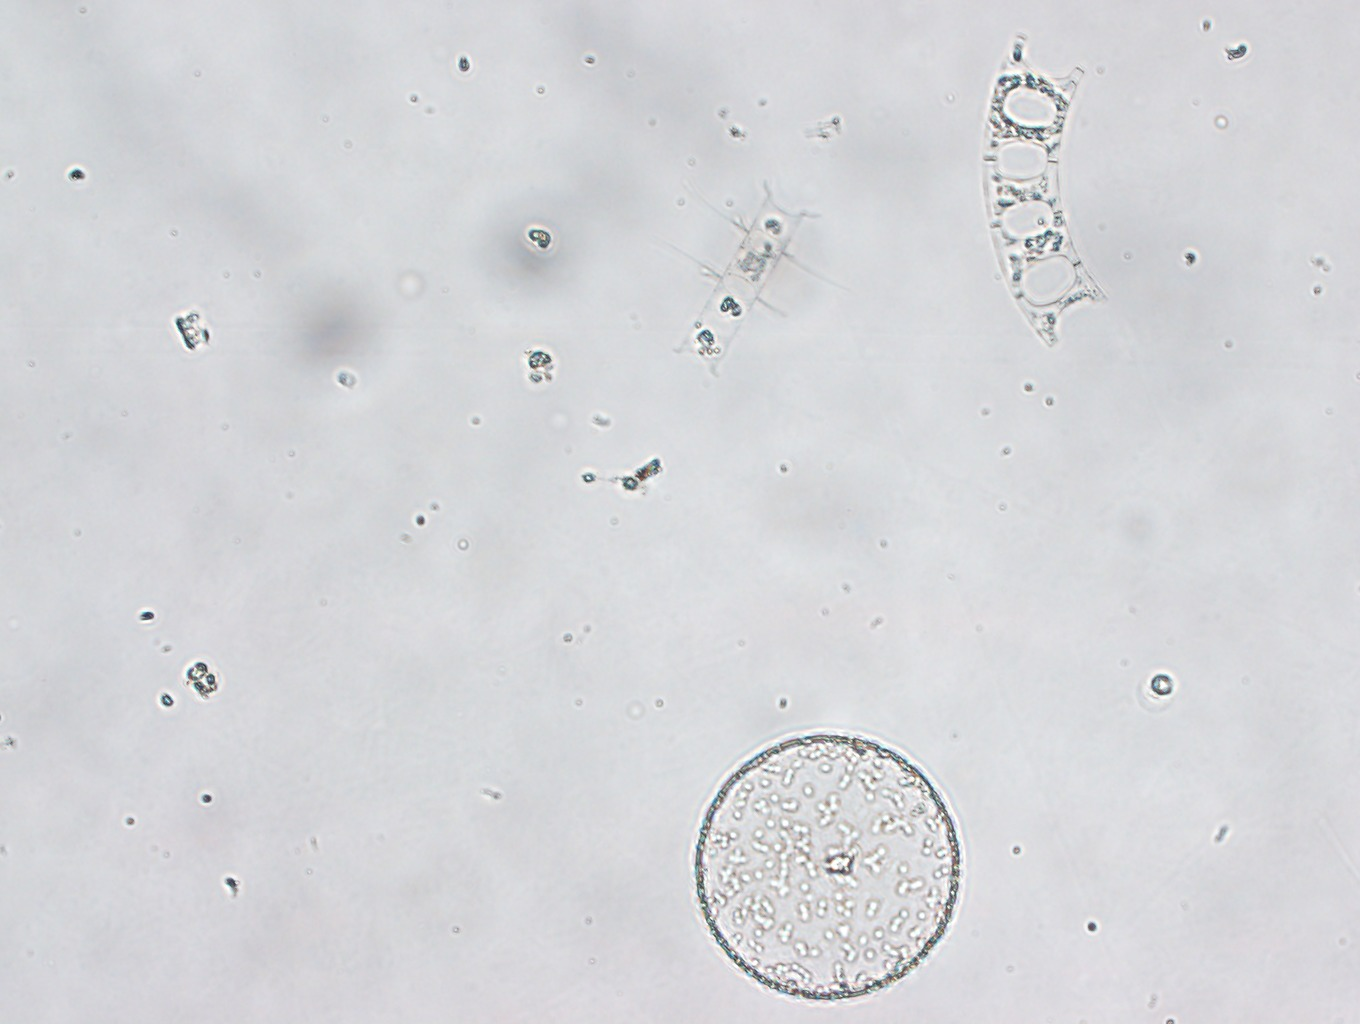chaetoceros: (663, 177, 851, 378)
coscinodiscus: (692, 729, 962, 1002)
eucampia: (979, 32, 1107, 347)
